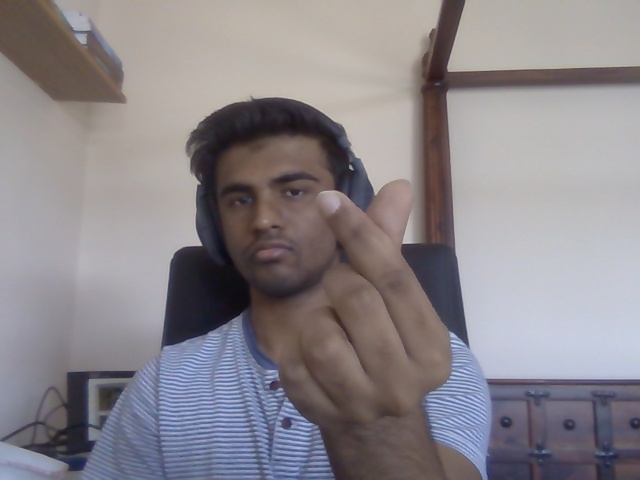Heart: (286, 180, 455, 425)
